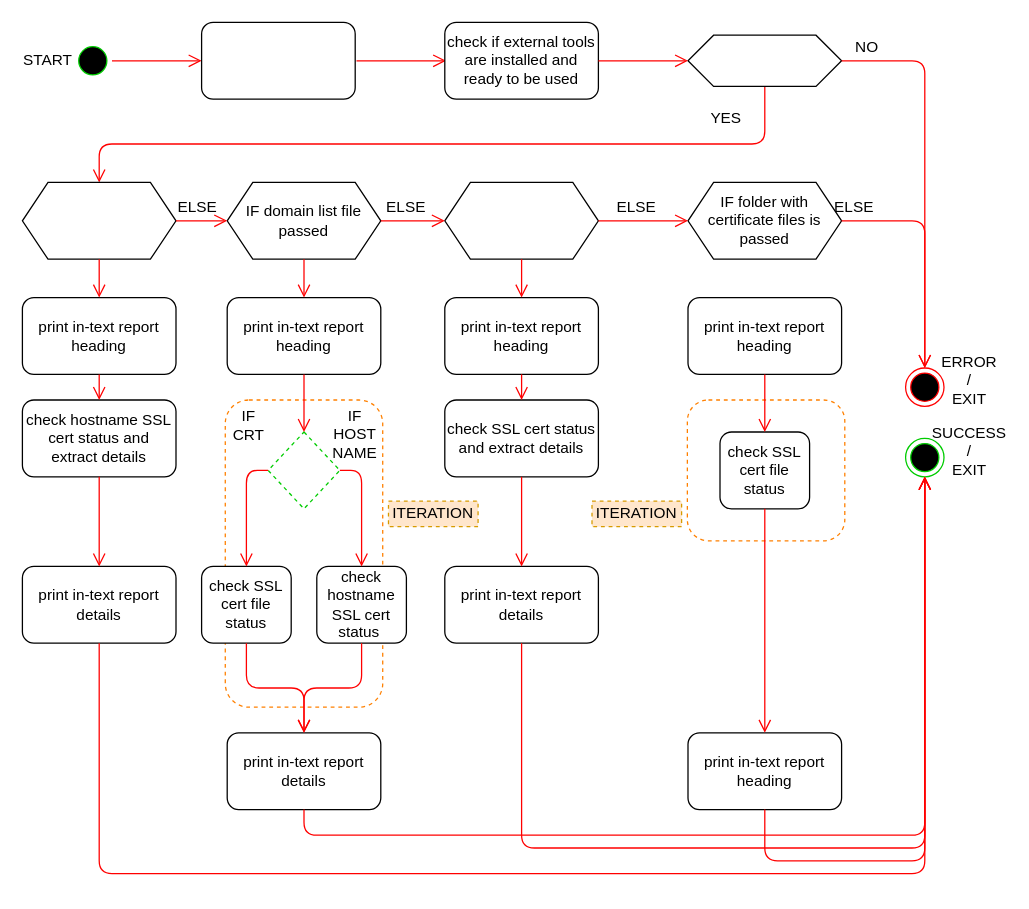
The diagram is 1029 pixels wide and 909 high, and some of its shapes have lost their labels. The shapes that lost their labels are listed below. From the top down, each one's centre as x and y in pixels, then its label:
point 277,60: getops - read the script arguments
point 764,60: All external tools available?
point 98,220: IF individual hostname passed
point 521,220: IF CRT file is passed
